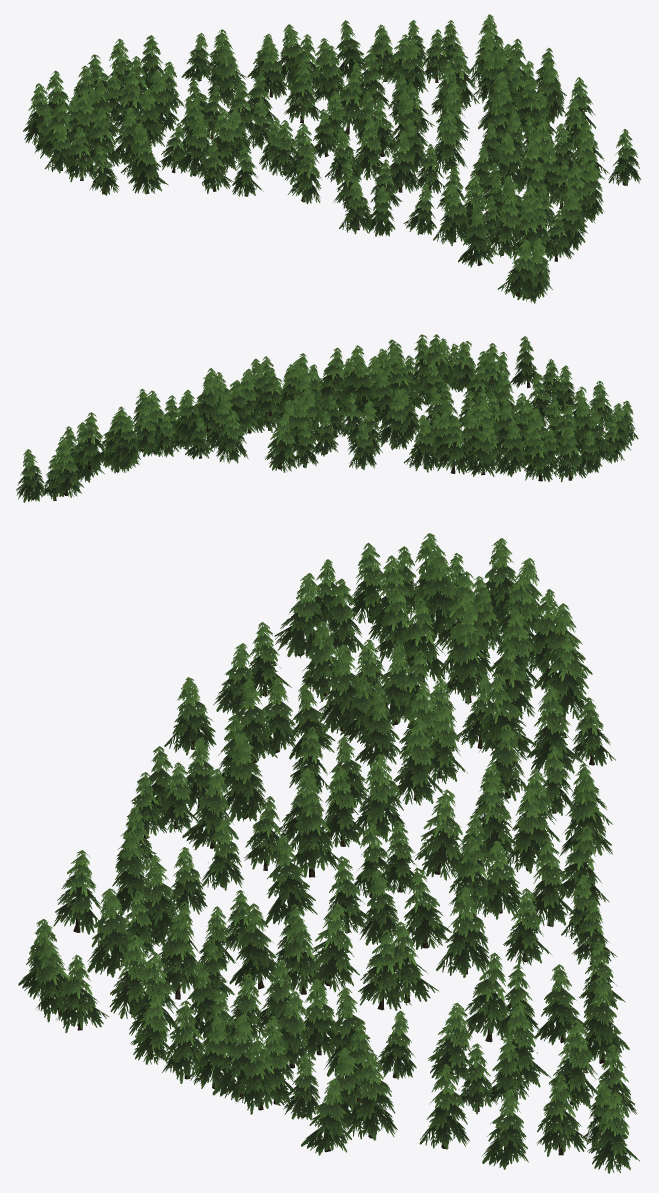
Rendered from Trees_04.fbx.
3 renders of one model, top to bottom at view 1: azimuth 30°, elevation 25°; view 2: azimuth 150°, elevation 25°; view 3: azimuth 270°, elevation 25°, orthographic. The views are drawn at different scales.
Parts seen in each view (by area): view 1: polySurface4286; view 2: polySurface4286; view 3: polySurface4286.
Boxes of the visible parts, box(x1,y1,x2,y2) form: polySurface4286: box(23, 14, 641, 303); polySurface4286: box(16, 334, 638, 502); polySurface4286: box(18, 533, 639, 1173).
Size of the model in its own units: 12720 by 3812 by 8311.
